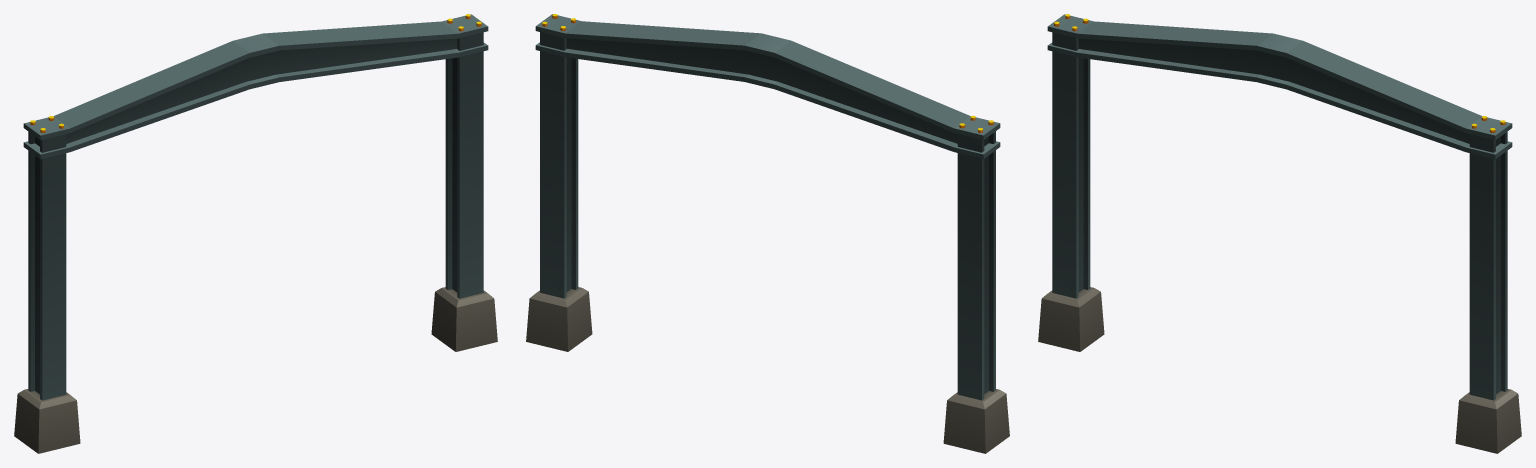
File: Metal_Arch_1A.fbx
3 views of the same model, side by side, from view 1: azimuth 30°, elevation 25°; view 2: azimuth 150°, elevation 25°; view 3: azimuth 330°, elevation 25° (orthographic).
Visible parts, largest first — view 1: Metal_Arch_1A; view 2: Metal_Arch_1A; view 3: Metal_Arch_1A.
Part boxes in pixels (x1=…): Metal_Arch_1A: x1=14, y1=14, x2=497, y2=453; Metal_Arch_1A: x1=526, y1=14, x2=1009, y2=453; Metal_Arch_1A: x1=1038, y1=14, x2=1521, y2=453.
Size of the model in its own units: 15.19 by 10.93 by 1.39.
